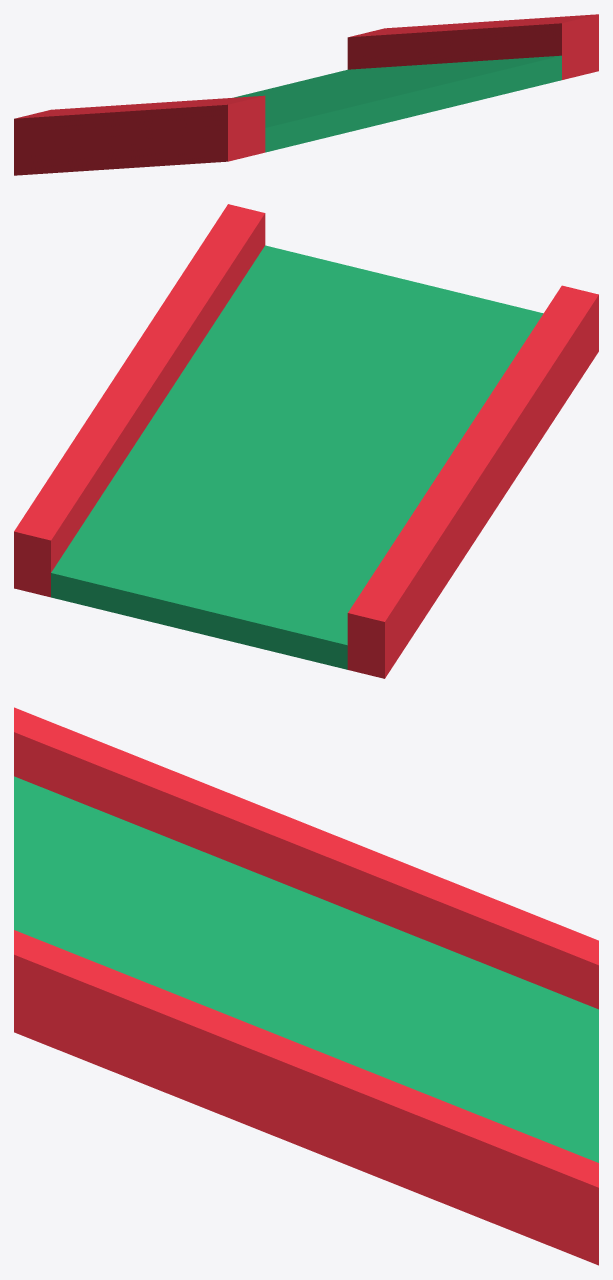
The model's file is rampC.fbx.
3 renders of one model, top to bottom at view 1: azimuth 30°, elevation 25°; view 2: azimuth 150°, elevation 25°; view 3: azimuth 270°, elevation 25°, orthographic. The views are drawn at different scales.
Visible parts, largest first — view 1: rampC; view 2: rampC; view 3: rampC.
Part boxes in pixels (left/top/right/bottom): rampC: left=14, top=14, right=598, bottom=175; rampC: left=14, top=204, right=598, bottom=678; rampC: left=14, top=707, right=598, bottom=1265.
Size of the model in its own units: 10 by 5.87 by 10.
